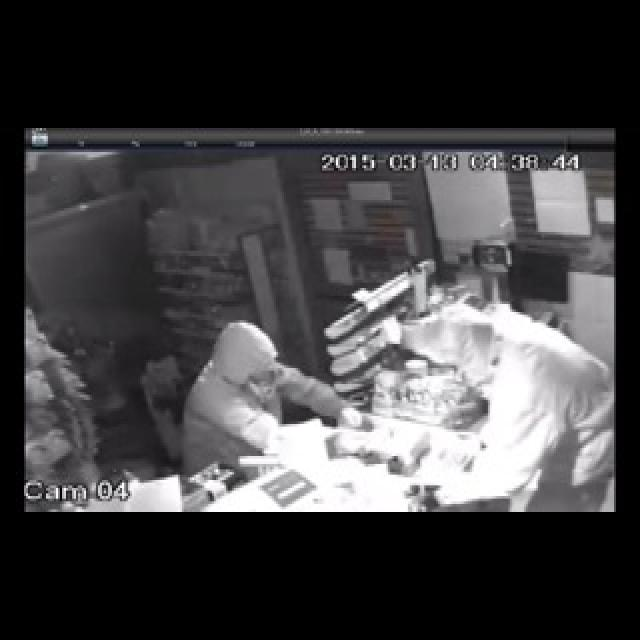thief: (430, 299, 614, 512), (175, 321, 339, 464)
